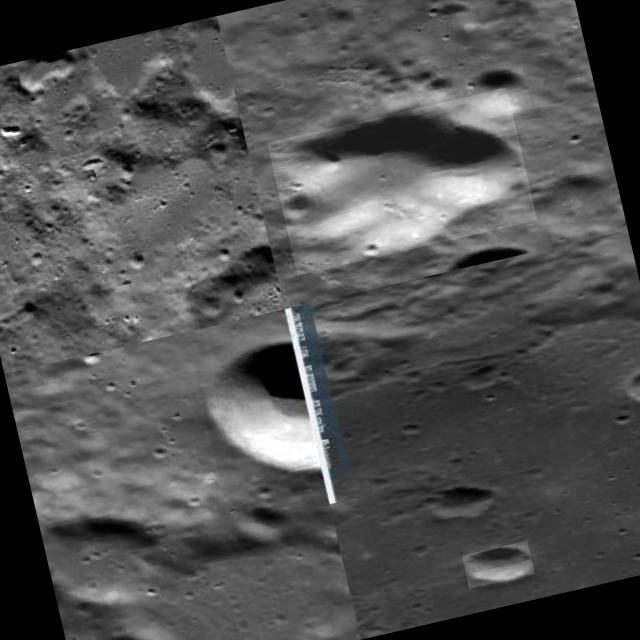crater: (267, 87, 537, 275), (192, 340, 320, 496), (464, 63, 532, 123), (462, 540, 534, 588), (425, 480, 498, 524), (621, 365, 640, 417)
